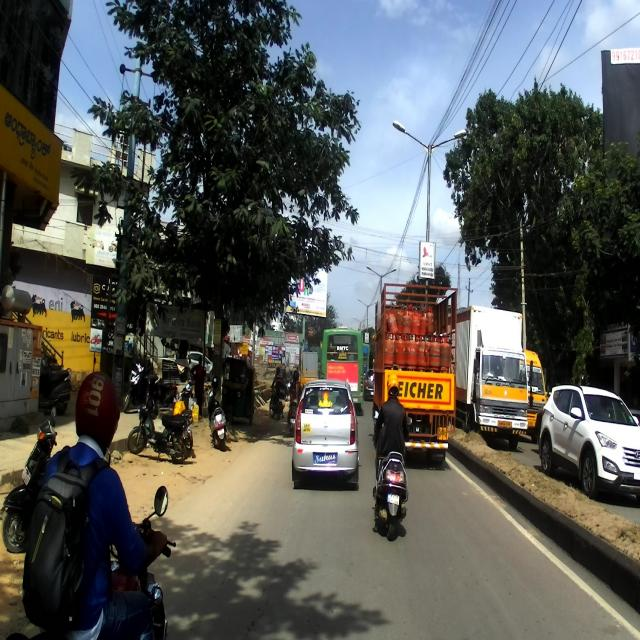car: (539, 383, 639, 502), (291, 378, 362, 488)
motorcycle: (3, 485, 175, 638), (127, 386, 190, 464), (38, 354, 70, 414)
scooter: (2, 408, 64, 555), (372, 407, 412, 540)
truck: (367, 274, 455, 463), (455, 303, 529, 446)
